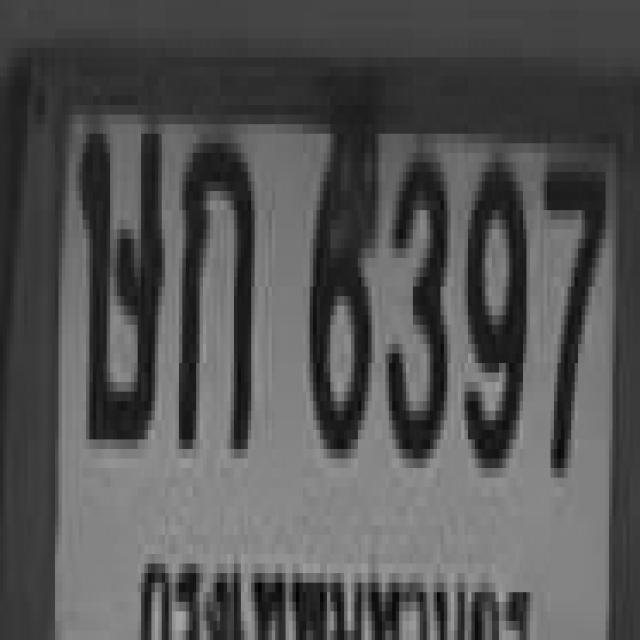10GorGai: (176, 129, 251, 444)
3: (384, 138, 446, 454)
48SorRueSi: (78, 114, 164, 440)
6: (306, 115, 375, 449)
7: (540, 153, 602, 468)
9: (461, 153, 523, 458)
